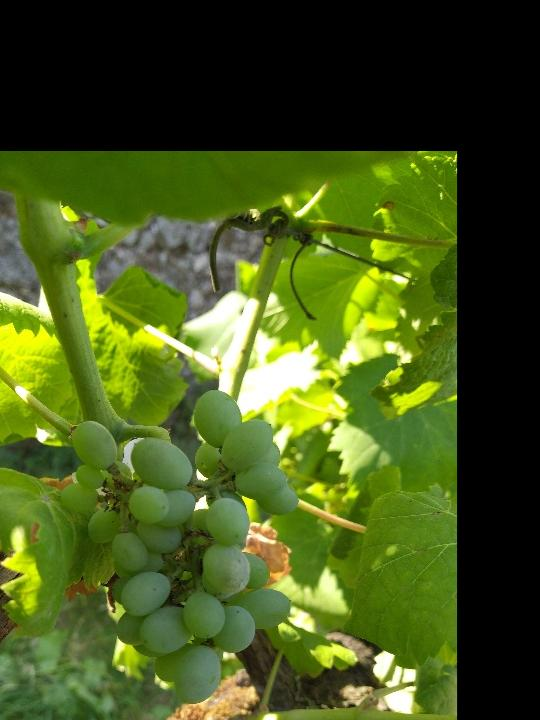grape: (54, 389, 294, 708)
